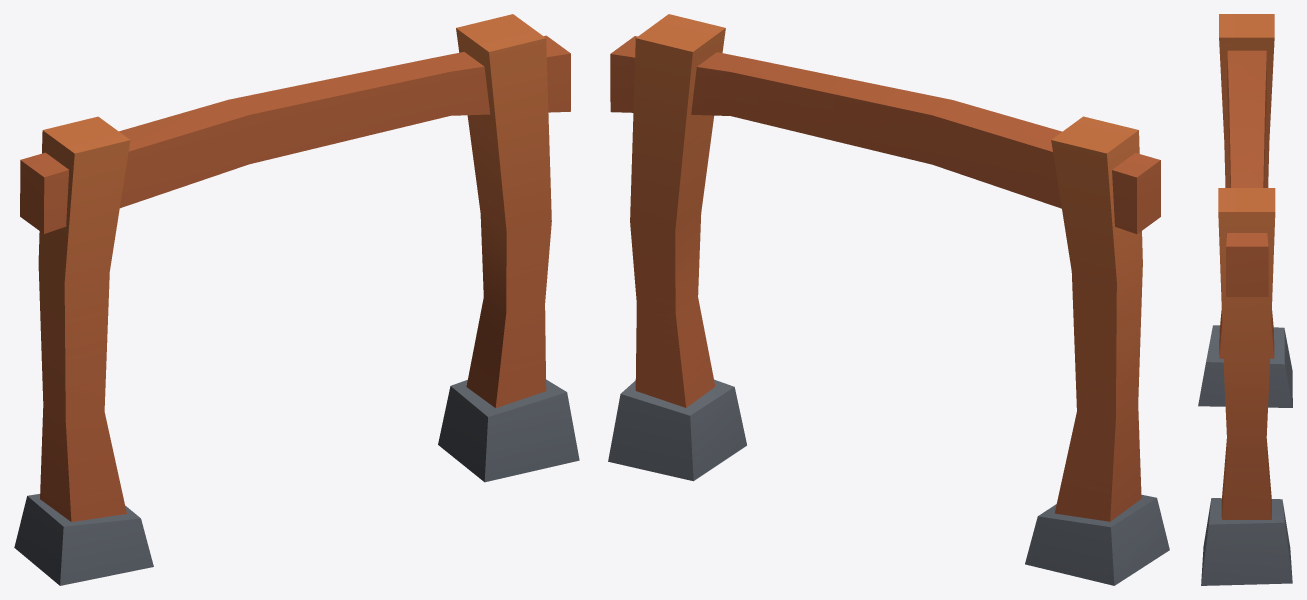
Rendered from SM_Gate_Wood.fbx.
3 views of the same model, side by side, from view 1: azimuth 30°, elevation 25°; view 2: azimuth 150°, elevation 25°; view 3: azimuth 270°, elevation 25° (orthographic). The views are drawn at different scales.
Parts seen in each view (by area): view 1: SM_Gate_2; view 2: SM_Gate_2; view 3: SM_Gate_2.
Part boxes in pixels (<box>): SM_Gate_2: <box>14,14,579,585</box>; SM_Gate_2: <box>608,14,1169,585</box>; SM_Gate_2: <box>1198,14,1292,585</box>.
Size of the model in its own units: 354 by 270 by 63.77.
